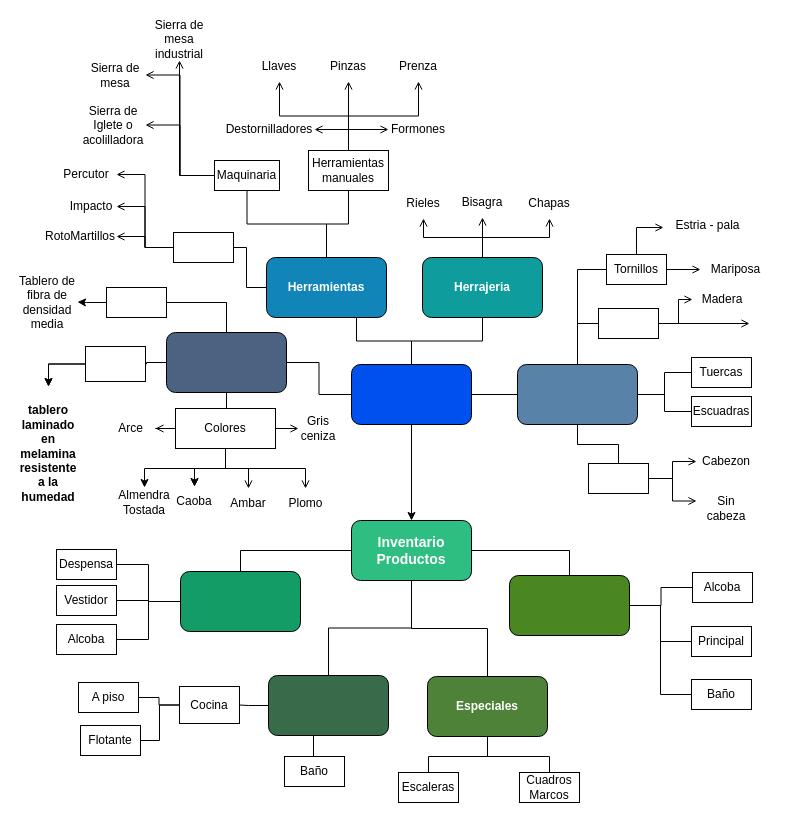
This 787x833 diagram has some shape labels left out. Each missing label, with the box of its shape:
Clavos: (588, 462, 648, 494)
Closets: (180, 570, 300, 632)
Elementos de sujecion: (516, 364, 638, 424)
Goma: (598, 308, 658, 338)
Inventario materias primas: (350, 364, 472, 424)
Maderas: (166, 332, 286, 392)
MDF: (106, 286, 166, 318)
Melamina RH: (84, 346, 146, 382)
Mueble: (268, 674, 388, 736)
Puertas: (508, 574, 630, 636)
Taladros: (172, 232, 234, 262)
